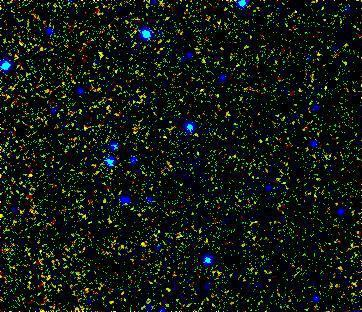star: (129, 234, 159, 264)
